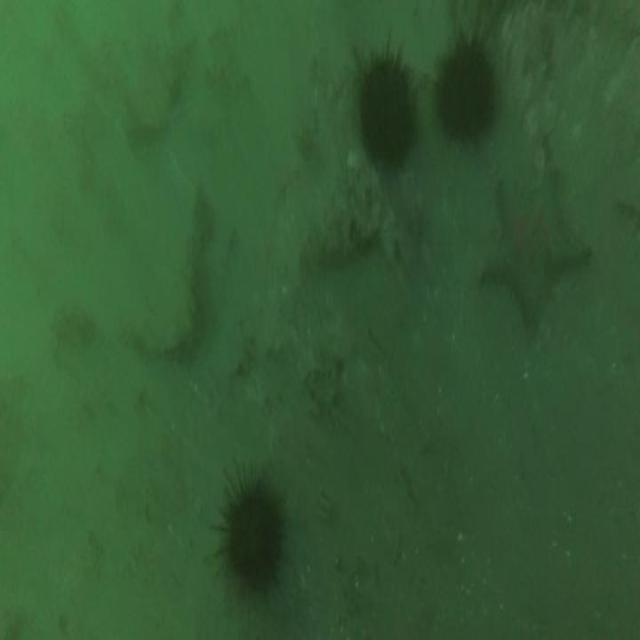echinus: (223, 488, 283, 598), (436, 43, 494, 147), (361, 63, 415, 168)
starfish: (482, 174, 589, 324)
